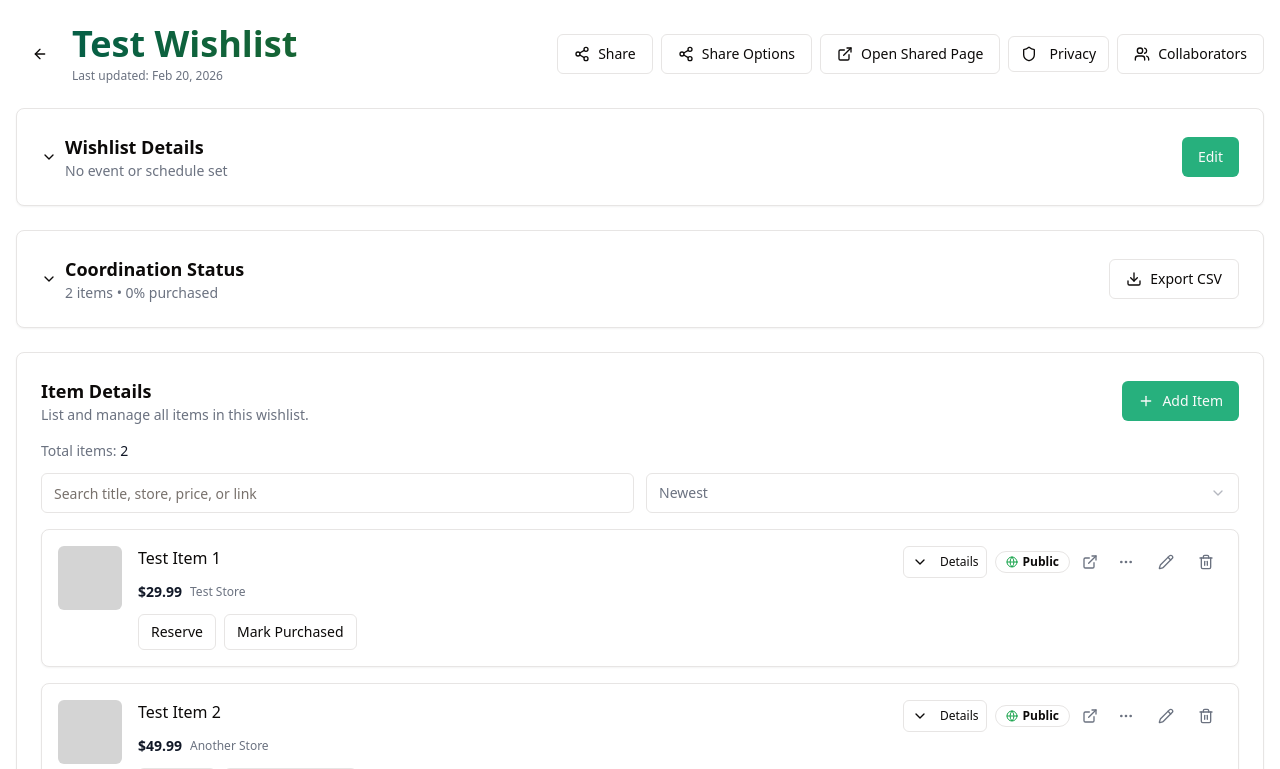
Test case: WishlistDetail Item CRUD › filters items by search term
Type "Another" into the field with test id "wishlist-detail-search-input". click: x=338, y=493
box: [41,473,634,513]
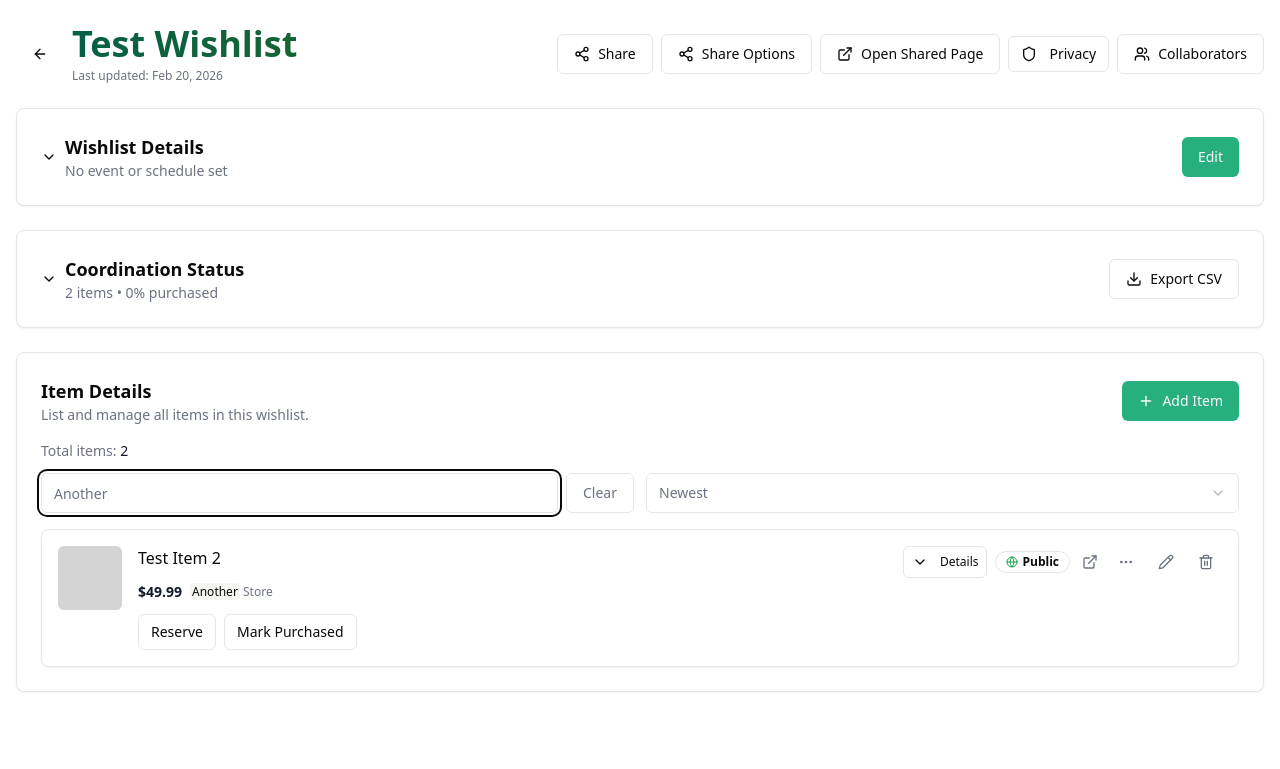
Expected: the heading "Test Item 2" is shown, [138,546,221,570]
Expected: the heading "Test Item 1" is gone
